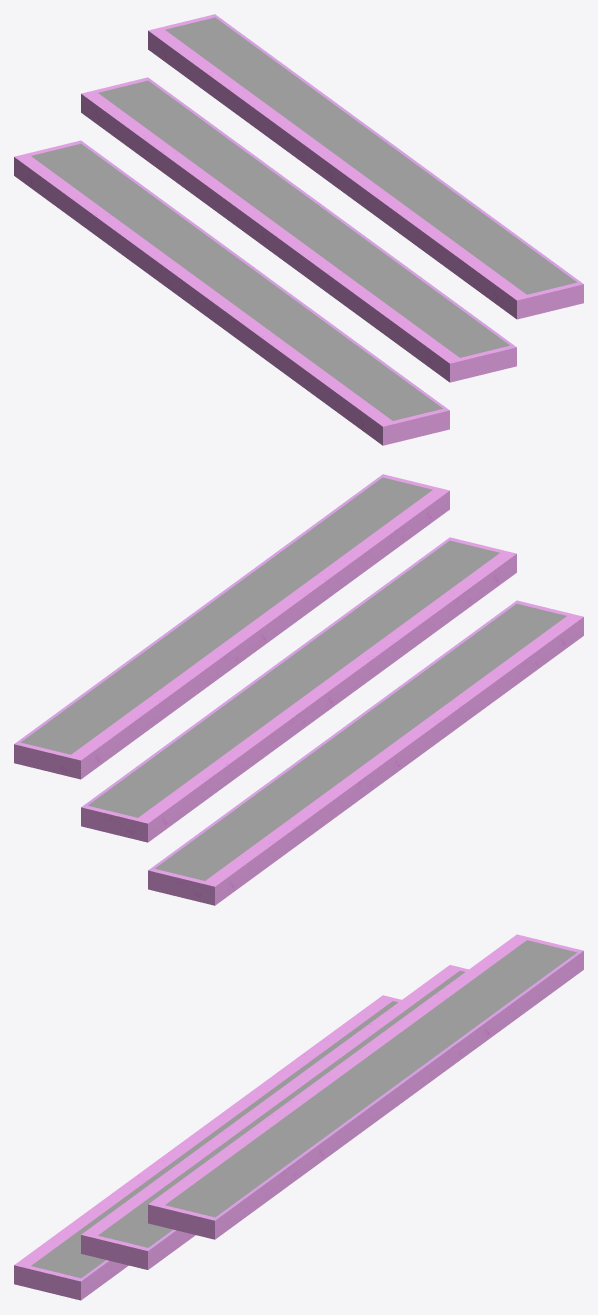
File: 300W3StepStairs_01_SM_Low.fbx
3 renders of one model, top to bottom at view 1: azimuth 30°, elevation 25°; view 2: azimuth 150°, elevation 25°; view 3: azimuth 330°, elevation 25°, orthographic.
Visible parts, largest first — view 1: Grate_Geo (×3), StepGratingBase_Geo (×3); view 2: Grate_Geo (×3), StepGratingBase_Geo (×3); view 3: StepGratingBase_Geo (×3), Grate_Geo (×3).
Boxes of the visible parts, <box> form: Grate_Geo (×3): <box>31,17,576,420</box>; StepGratingBase_Geo (×3): <box>14,14,583,445</box>; Grate_Geo (×3): <box>21,477,566,880</box>; StepGratingBase_Geo (×3): <box>14,474,583,905</box>; StepGratingBase_Geo (×3): <box>14,934,583,1300</box>; Grate_Geo (×3): <box>31,940,576,1278</box>.
Bounding box in the file's own units: 90 × 48.12 × 286.
2 materials, 1 textured.
